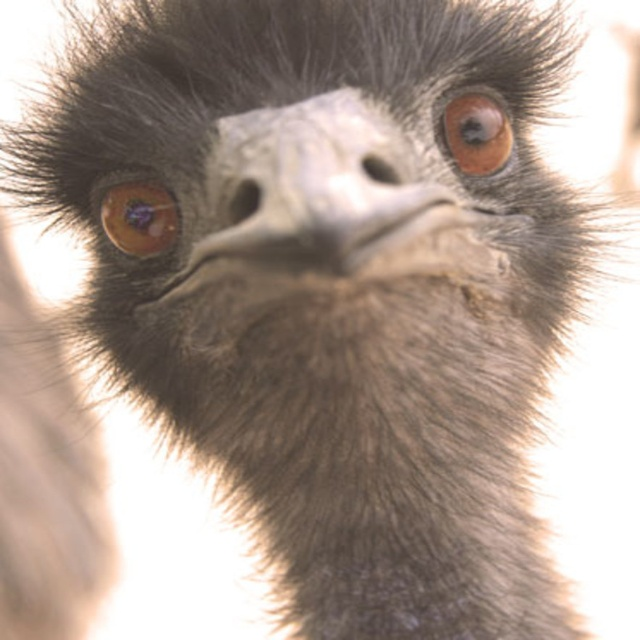Ostrich: (0, 0, 635, 639)
